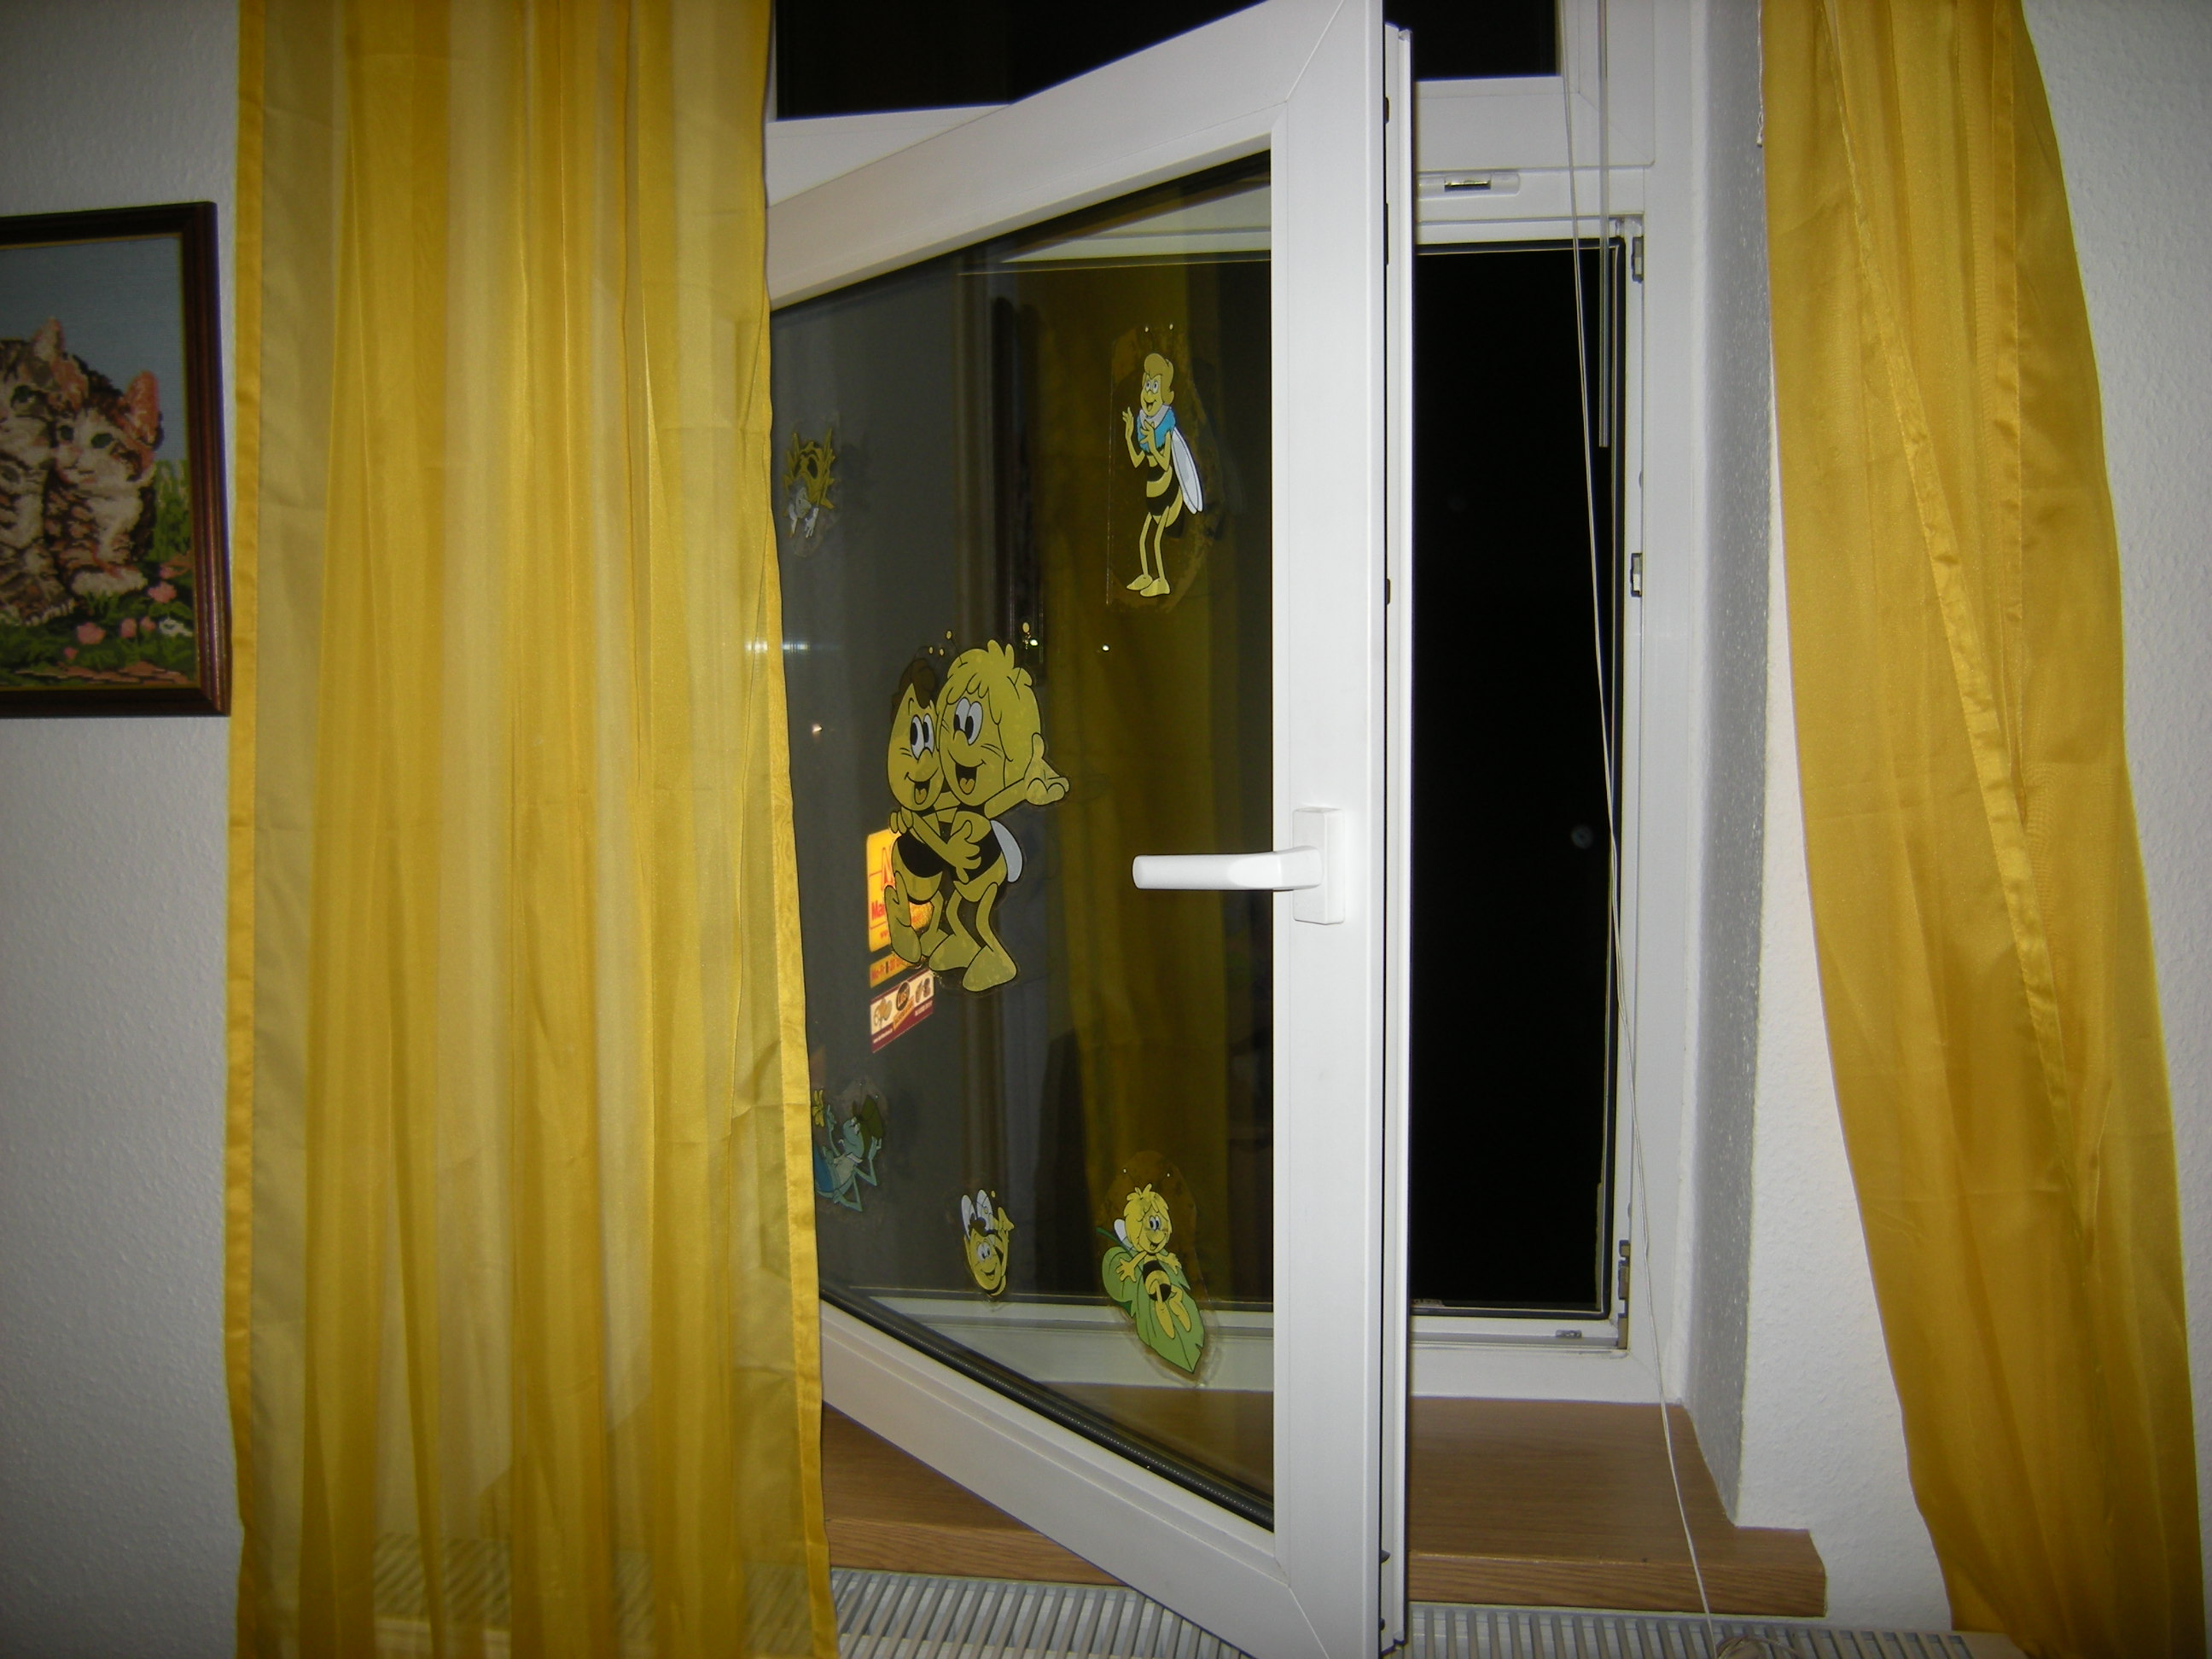windows: (723, 113, 1733, 1614)
